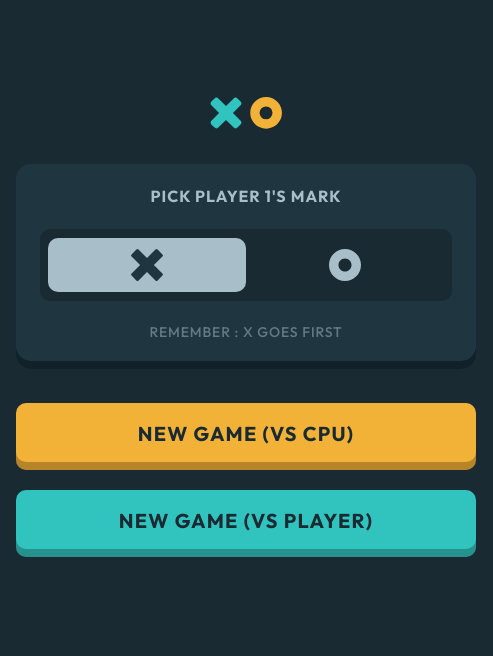
Test case: App › starts a game against the CPU with player 1 as O
# Click the O button to select O as player 1's mark
Click the button named "Select O" at coordinates (345, 264), box [246,238,444,292]
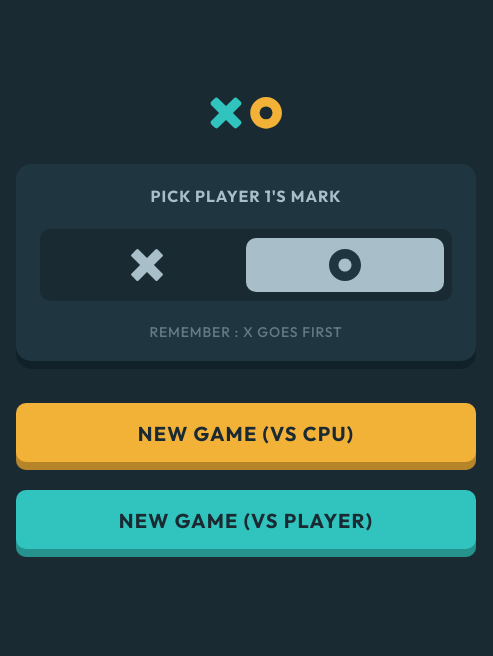
Click the button "New game (vs CPU)" at coordinates (246, 436), box [16,403,476,470]
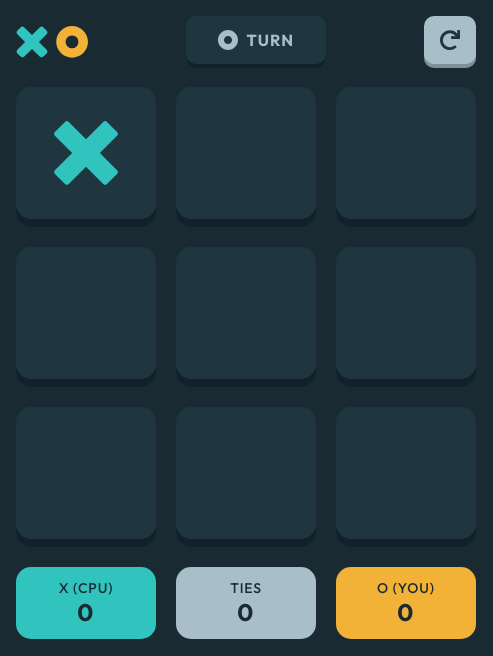
Result: the text "X (cpu)" is shown at [59,578,113,596]
Result: the text "O (you)" is shown at [377,578,435,596]
